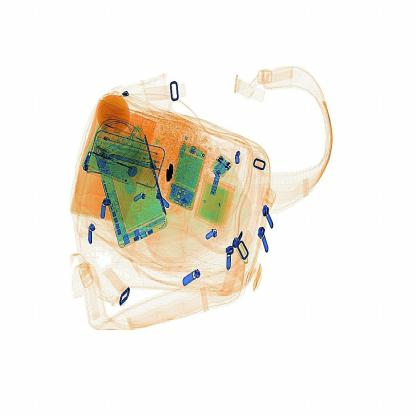knife: (162, 153, 182, 191)
